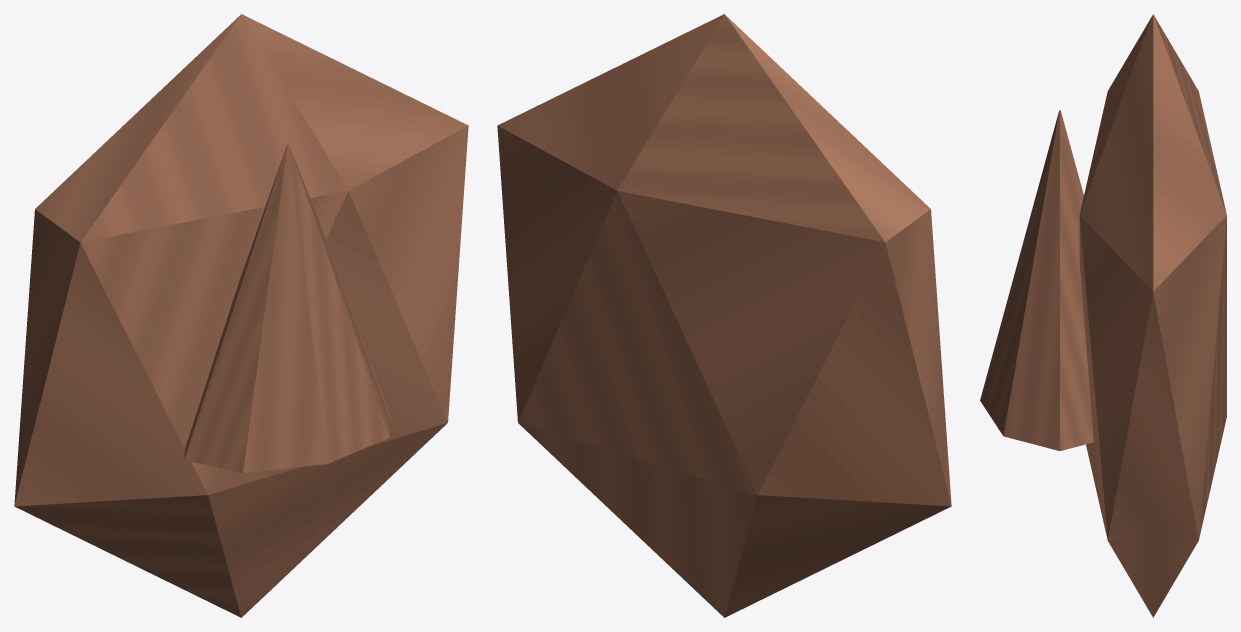
File: frenzy.glb
3 renders of one model, left to right at view 1: azimuth 30°, elevation 25°; view 2: azimuth 150°, elevation 25°; view 3: azimuth 270°, elevation 25°, orthographic.
Visible parts, largest first — view 1: gear_frenzy; view 2: gear_frenzy; view 3: gear_frenzy.
Part boxes in pixels (box(x1,y1,x2,y2)): gear_frenzy: box(14, 14, 468, 617); gear_frenzy: box(497, 14, 951, 617); gear_frenzy: box(980, 14, 1226, 617).
Bounding box in the file's own units: 0.3935 × 0.5 × 0.1853.
1 material, 1 textured.
